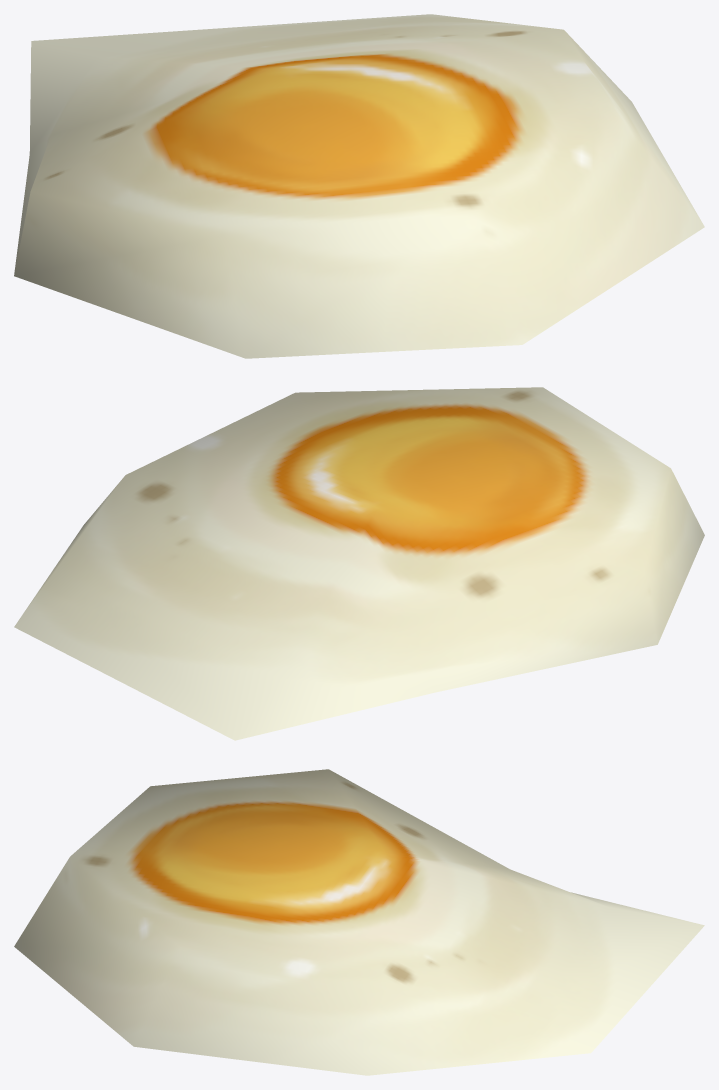
File: SM_PROP_food_egg_05.FBX
The picture shows the model from 3 angles, top to bottom: view 1: azimuth 30°, elevation 25°; view 2: azimuth 150°, elevation 25°; view 3: azimuth 270°, elevation 25°; orthographic projection. The views are drawn at different scales.
Visible parts, largest first — view 1: SM_PROP_food_egg_05; view 2: SM_PROP_food_egg_05; view 3: SM_PROP_food_egg_05.
Boxes of the visible parts, x1,y1,x2,y2 form: SM_PROP_food_egg_05: (14,14,704,358); SM_PROP_food_egg_05: (14,387,704,740); SM_PROP_food_egg_05: (14,769,704,1075).
Size of the model in its own units: 18.72 by 21.97 by 3.07.
